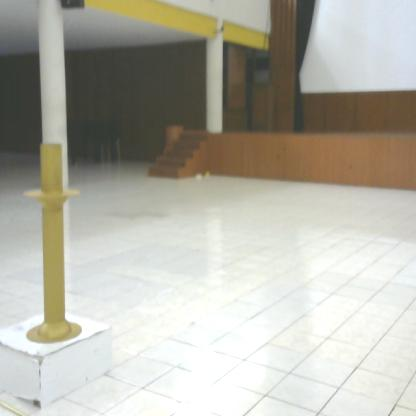pole: (22, 141, 85, 349)
